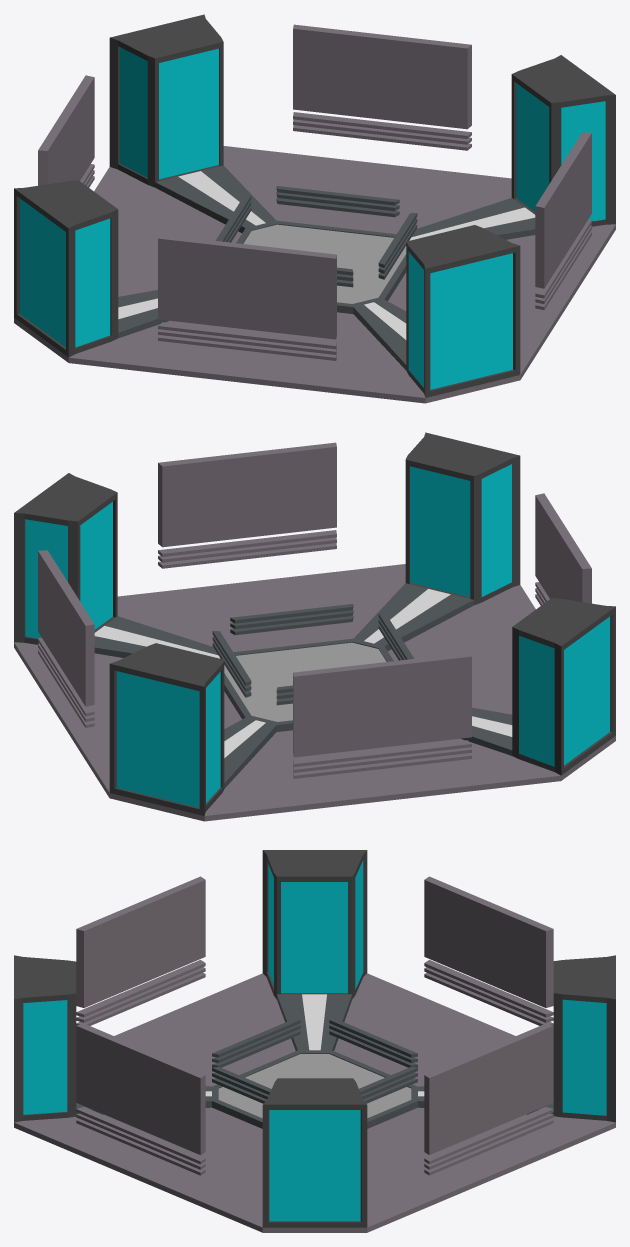
Rendered from login.fbx.
3 renders of one model, top to bottom at view 1: azimuth 30°, elevation 25°; view 2: azimuth 150°, elevation 25°; view 3: azimuth 270°, elevation 25°, orthographic. The views are drawn at different scales.
Parts seen in each view (by area): view 1: Cube, Cube.015, Cube.001, Cube.010, Cube.003, Cube.002, Cube.021, Cube.014, Cube.006, Cube.012, Cube.013, Cube.005 (+5 smaller); view 2: Cube, Cube.015, Cube.010, Cube.001, Cube.003, Cube.002, Cube.021, Cube.014, Cube.004, Cube.012, Cube.013, Cube.005 (+5 smaller); view 3: Cube.015, Cube, Cube.002, Cube.003, Cube.010, Cube.001, Cube.021, Cube.014, Cube.012, Cube.013, Cube.007, Cube.011 (+2 smaller).
Boxes of the visible parts, x1,y1,x2,y2 form: Cube: [14, 146, 615, 403]; Cube.015: [38, 24, 591, 339]; Cube.001: [406, 225, 520, 397]; Cube.010: [109, 14, 223, 187]; Cube.003: [14, 180, 118, 357]; Cube.002: [511, 55, 615, 226]; Cube.021: [236, 220, 406, 313]; Cube.014: [80, 112, 591, 349]; Cube.006: [155, 165, 275, 232]; Cube.012: [87, 125, 591, 360]; Cube.013: [84, 119, 591, 354]; Cube.005: [409, 198, 535, 240]; Cube: [14, 564, 615, 821]; Cube.015: [38, 442, 591, 757]; Cube.010: [109, 643, 224, 815]; Cube.001: [405, 432, 520, 605]; Cube.003: [512, 598, 615, 775]; Cube.002: [14, 473, 117, 644]; Cube.021: [224, 638, 393, 731]; Cube.014: [38, 530, 549, 767]; Cube.004: [354, 583, 473, 650]; Cube.012: [38, 543, 542, 778]; Cube.013: [38, 537, 545, 772]; Cube.005: [94, 616, 220, 658]; Cube.015: [76, 876, 553, 1154]; Cube: [14, 973, 615, 1232]; Cube.002: [262, 1078, 367, 1227]; Cube.003: [262, 850, 367, 999]; Cube.010: [553, 955, 615, 1122]; Cube.001: [14, 955, 76, 1122]; Cube.021: [212, 1050, 417, 1128]; Cube.014: [76, 960, 553, 1164]; Cube.012: [76, 972, 553, 1175]; Cube.013: [76, 967, 553, 1169]; Cube.007: [277, 994, 352, 1050]; Cube.011: [212, 1017, 417, 1094].
Size of the model in its own units: 778 by 183 by 778.
